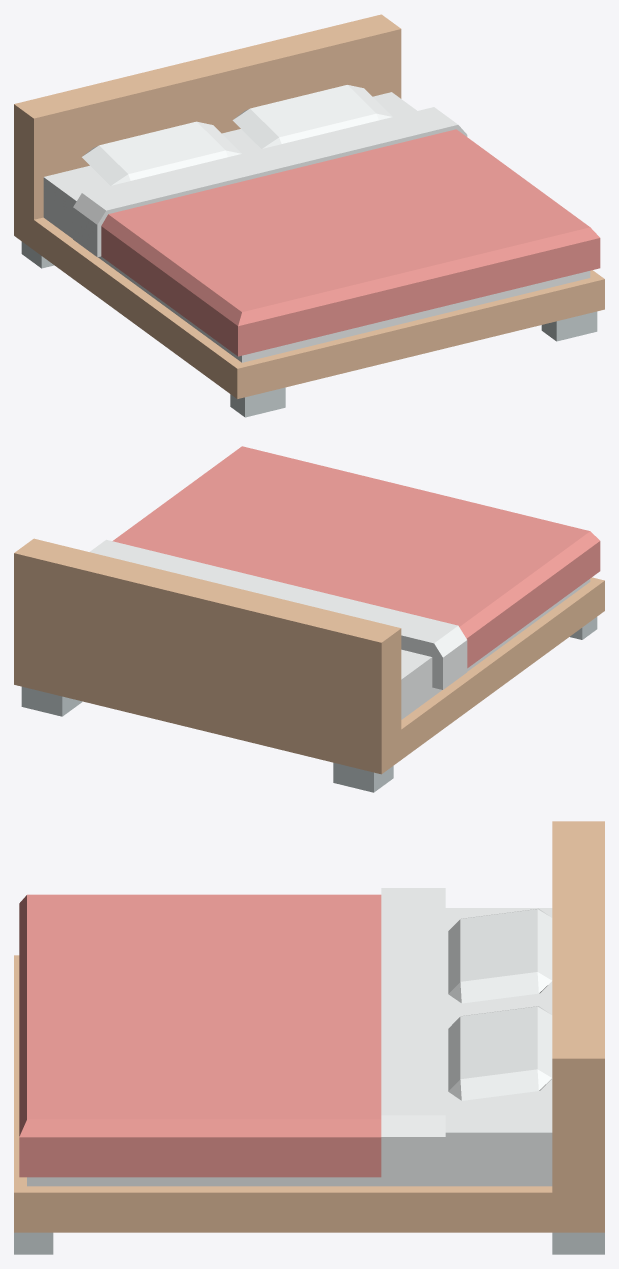
The model's file is bedDouble-col.glb.
3 views of the same model, one above another, from view 1: azimuth 30°, elevation 25°; view 2: azimuth 150°, elevation 25°; view 3: azimuth 270°, elevation 25° (orthographic). The views are drawn at different scales.
Visible parts, largest first — view 1: bedDouble-col; view 2: bedDouble-col; view 3: bedDouble-col.
Boxes of the visible parts, bbox=[...] form: bedDouble-col: bbox=[14, 14, 604, 417]; bedDouble-col: bbox=[14, 446, 604, 792]; bedDouble-col: bbox=[14, 821, 604, 1254].
Size of the model in its own units: 0.956 by 0.375 by 1.
